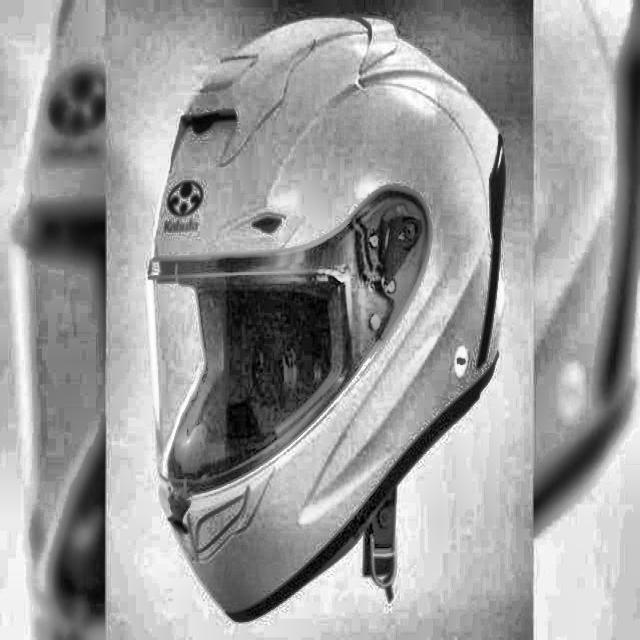Helmet: (145, 5, 504, 640)
